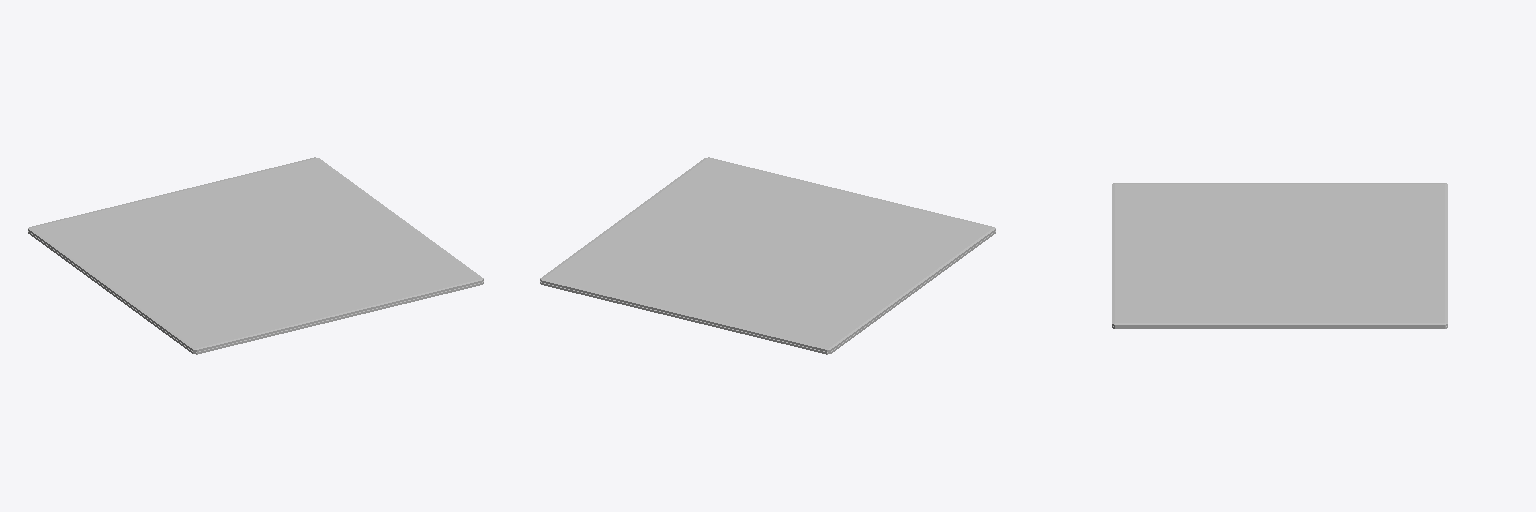
The model's file is platform_6x6x1_blue.014.obj.
3 views of the same model, side by side, from view 1: azimuth 30°, elevation 25°; view 2: azimuth 150°, elevation 25°; view 3: azimuth 270°, elevation 25° (orthographic).
Parts seen in each view (by area): view 1: platform_6x6x1_blue.014; view 2: platform_6x6x1_blue.014; view 3: platform_6x6x1_blue.014.
Boxes of the visible parts, box(x1,y1,x2,y2) form: platform_6x6x1_blue.014: box(28, 157, 483, 354); platform_6x6x1_blue.014: box(540, 157, 995, 354); platform_6x6x1_blue.014: box(1112, 183, 1447, 328).
Bounding box in the file's own units: 60 × 1 × 60.